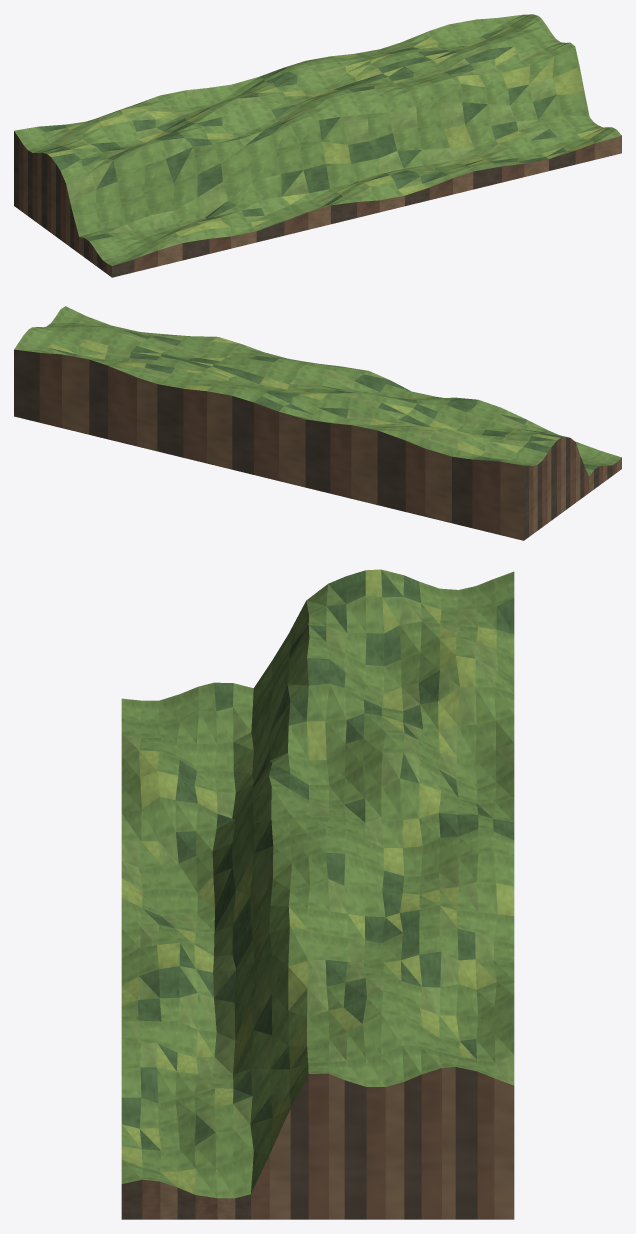
Rendered from cliff_ledge.fbx.
The picture shows the model from 3 angles, top to bottom: view 1: azimuth 30°, elevation 25°; view 2: azimuth 150°, elevation 25°; view 3: azimuth 270°, elevation 25°; orthographic projection. The views are drawn at different scales.
Parts seen in each view (by area): view 1: cliff_ledge; view 2: cliff_ledge; view 3: cliff_ledge.
Boxes of the visible parts, x1,y1,x2,y2 form: cliff_ledge: (14,14,621,277); cliff_ledge: (14,306,621,540); cliff_ledge: (121,569,514,1219).
Size of the model in its own units: 3000 by 450 by 1000.
Materials: 1 (1 with a texture image).
